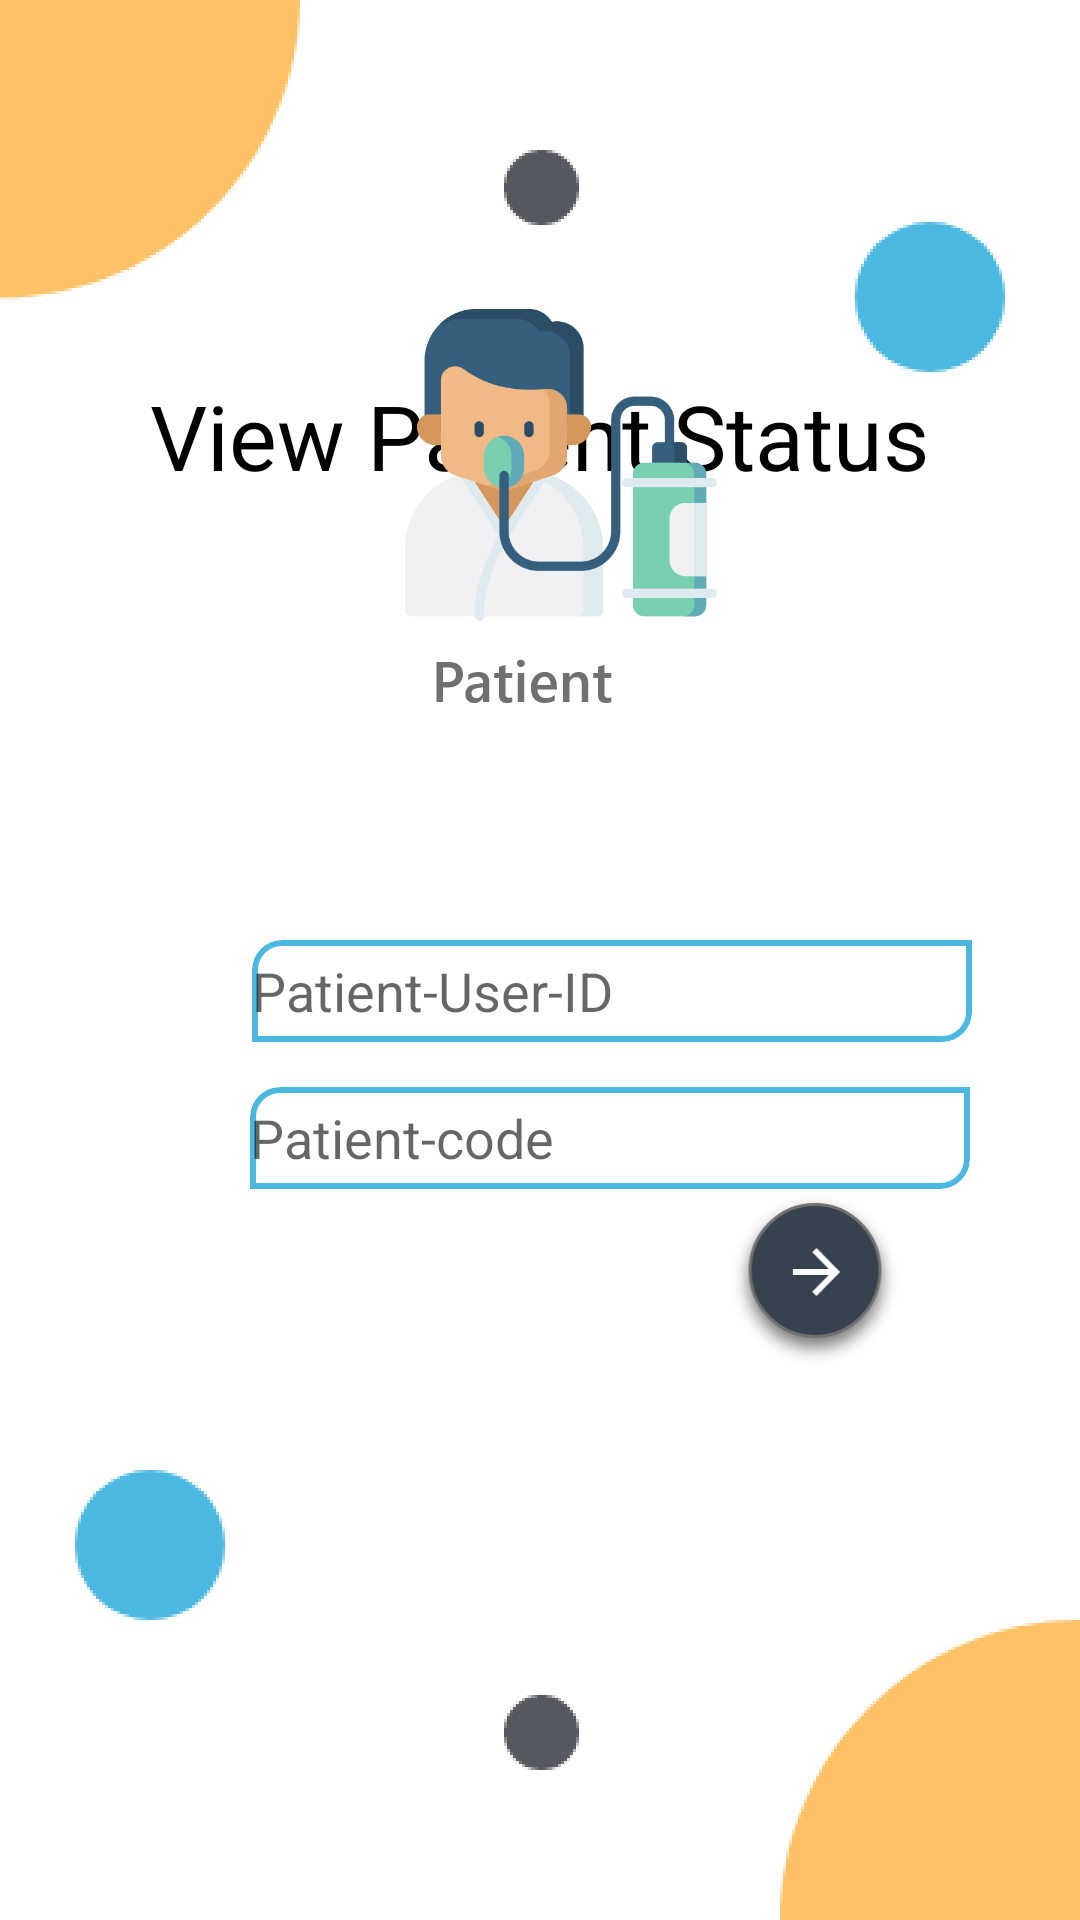

Screen size 1080x1920. Icon name, then its center in pixels as (x,y):
signbt: (815,1278)
